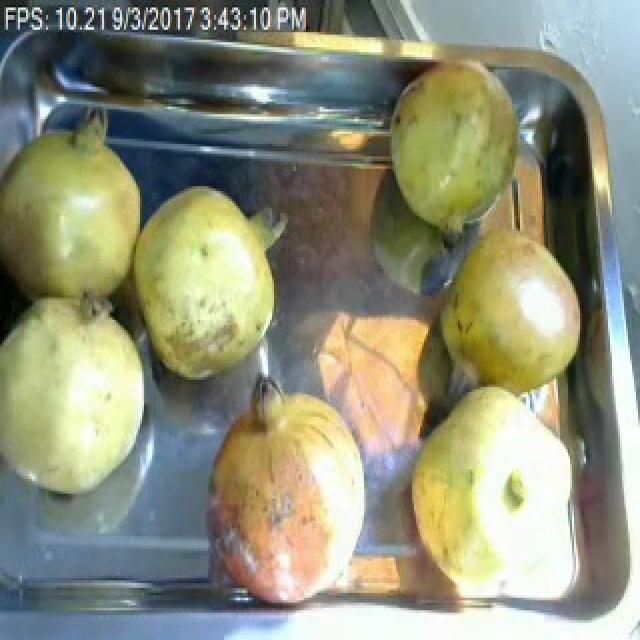fruit: (190, 385, 382, 625), (396, 365, 584, 600), (122, 171, 306, 402), (0, 278, 166, 516), (0, 107, 158, 325), (426, 211, 594, 412), (376, 47, 534, 258)
